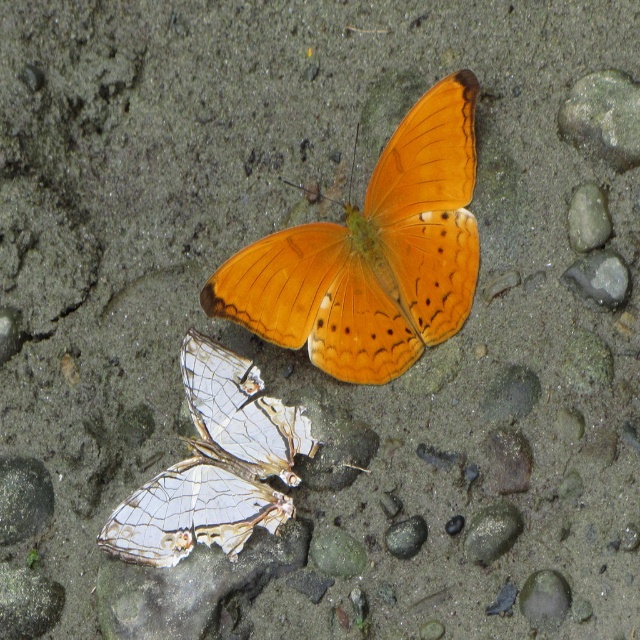Butterfly: (194, 76, 494, 396), (94, 325, 329, 574)
